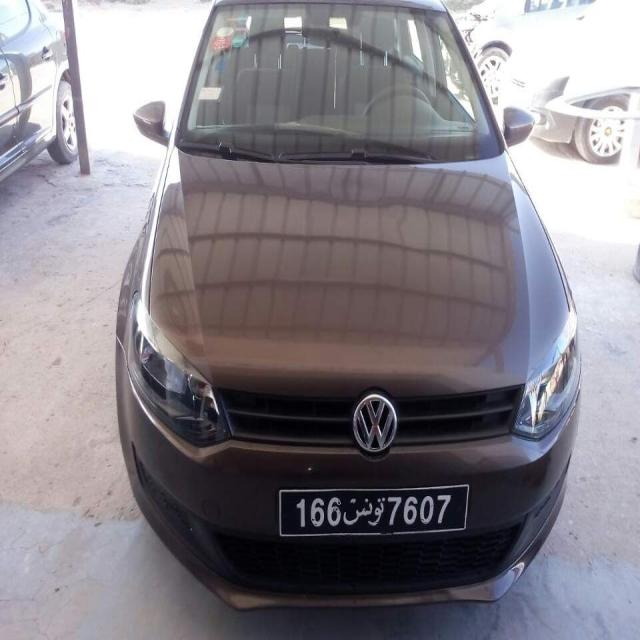LP: (277, 483, 470, 538)
